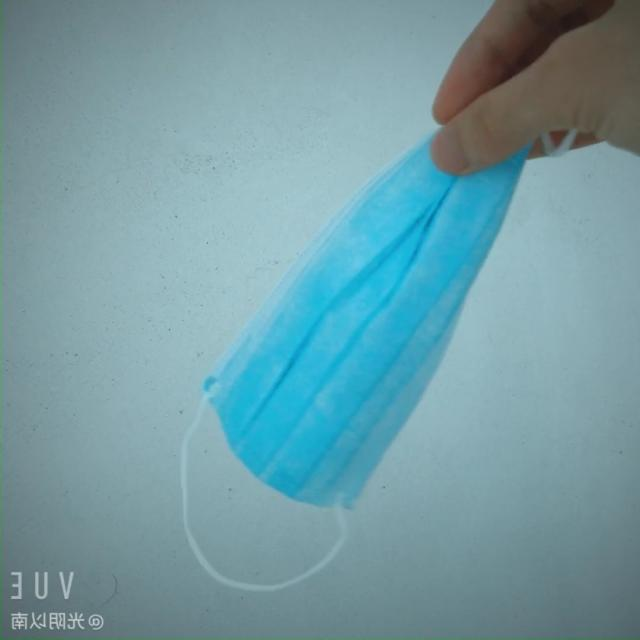face mask: (194, 68, 560, 518)
